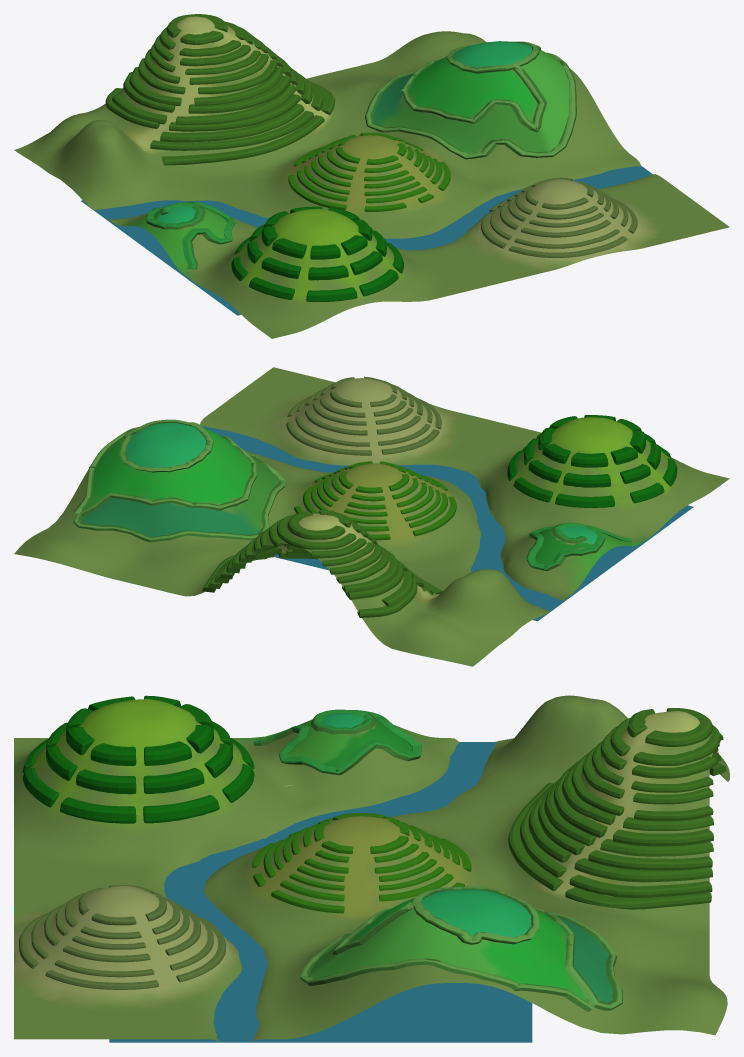
The model's file is Mapa_3.fbx.
3 renders of one model, top to bottom at view 1: azimuth 30°, elevation 25°; view 2: azimuth 150°, elevation 25°; view 3: azimuth 270°, elevation 25°, orthographic. The views are drawn at different scales.
Parts seen in each view (by area): view 1: SueloZbrush, Montana6.001, Agua, Montana3.003, Montana3.001, Montana3.002, Montana4.013, Montana4.009, Montana4.010, Montana5.001, Montana4.012, Montana4.011 (+21 smaller); view 2: SueloZbrush, Agua, Montana6.001, Montana3.003, Montana3.001, Montana3.002, Montana5.001, Montana2.006, Montana4.001, Montana4.002, Montana4.010, Montana2.005 (+18 smaller); view 3: SueloZbrush, Agua, Montana6.001, Montana3.003, Montana3.001, Montana3.002, Montana5.001, Montana4.013, Montana4.012, Montana4.011, Montana4.010, Montana4.008 (+21 smaller).
Part boxes in pixels (bbox=[...]): SueloZbrush: bbox=[14, 16, 729, 338]; Montana6.001: bbox=[365, 41, 576, 159]; Agua: bbox=[81, 166, 652, 315]; Montana3.003: bbox=[231, 236, 403, 301]; Montana3.001: bbox=[261, 206, 372, 259]; Montana3.002: bbox=[247, 224, 386, 280]; Montana4.013: bbox=[161, 82, 335, 165]; Montana4.009: bbox=[112, 66, 297, 124]; Montana4.010: bbox=[105, 69, 304, 131]; Montana5.001: bbox=[146, 201, 235, 269]; Montana4.012: bbox=[150, 80, 323, 150]; Montana4.011: bbox=[160, 74, 312, 142]; SueloZbrush: bbox=[14, 367, 729, 666]; Agua: bbox=[202, 426, 693, 621]; Montana6.001: bbox=[73, 419, 286, 542]; Montana3.003: bbox=[507, 446, 677, 507]; Montana3.001: bbox=[538, 415, 645, 467]; Montana3.002: bbox=[524, 433, 660, 487]; Montana5.001: bbox=[526, 522, 632, 570]; Montana2.006: bbox=[286, 396, 441, 455]; Montana4.001: bbox=[287, 510, 350, 539]; Montana4.002: bbox=[276, 511, 361, 549]; Montana4.010: bbox=[219, 546, 417, 617]; Montana2.005: bbox=[295, 397, 432, 446]; SueloZbrush: bbox=[14, 695, 729, 1041]; Agua: bbox=[109, 742, 532, 1042]; Montana6.001: bbox=[300, 886, 622, 1011]; Montana3.003: bbox=[22, 738, 254, 823]; Montana3.001: bbox=[66, 695, 213, 765]; Montana3.002: bbox=[45, 721, 232, 794]; Montana5.001: bbox=[253, 709, 422, 775]; Montana4.013: bbox=[508, 782, 711, 909]; Montana4.012: bbox=[520, 796, 712, 897]; Montana4.011: bbox=[528, 784, 712, 882]; Montana4.010: bbox=[538, 762, 726, 870]; Montana4.008: bbox=[553, 755, 720, 846].
Bounding box in the file's own units: 29997 × 6807 × 29995.
8 materials, 3 textured.
